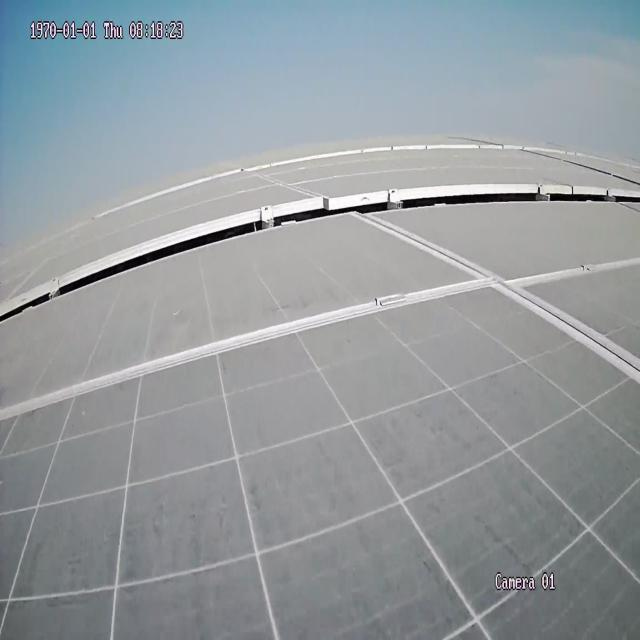interior panel: (0, 217, 639, 427)
outher panel: (2, 184, 639, 321)
